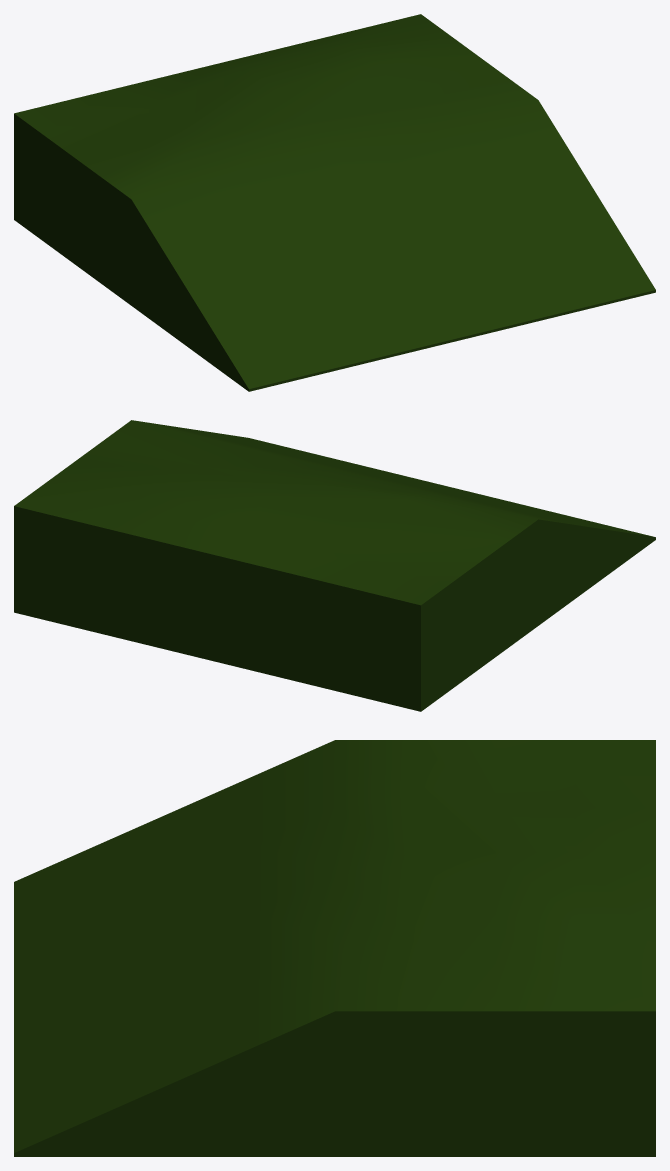
The model's file is uniformedTile-08_col.fbx.
The picture shows the model from 3 angles, top to bottom: view 1: azimuth 30°, elevation 25°; view 2: azimuth 150°, elevation 25°; view 3: azimuth 270°, elevation 25°; orthographic projection. The views are drawn at different scales.
Visible parts, largest first — view 1: uniformedTile-08.col; view 2: uniformedTile-08.col; view 3: uniformedTile-08.col.
Part boxes in pixels (x1,y1,x2,y2): uniformedTile-08.col: (14,14,655,391); uniformedTile-08.col: (14,420,655,711); uniformedTile-08.col: (14,740,655,1156).
Size of the model in its own units: 2 by 0.5797 by 2.
1 material, 1 textured.
